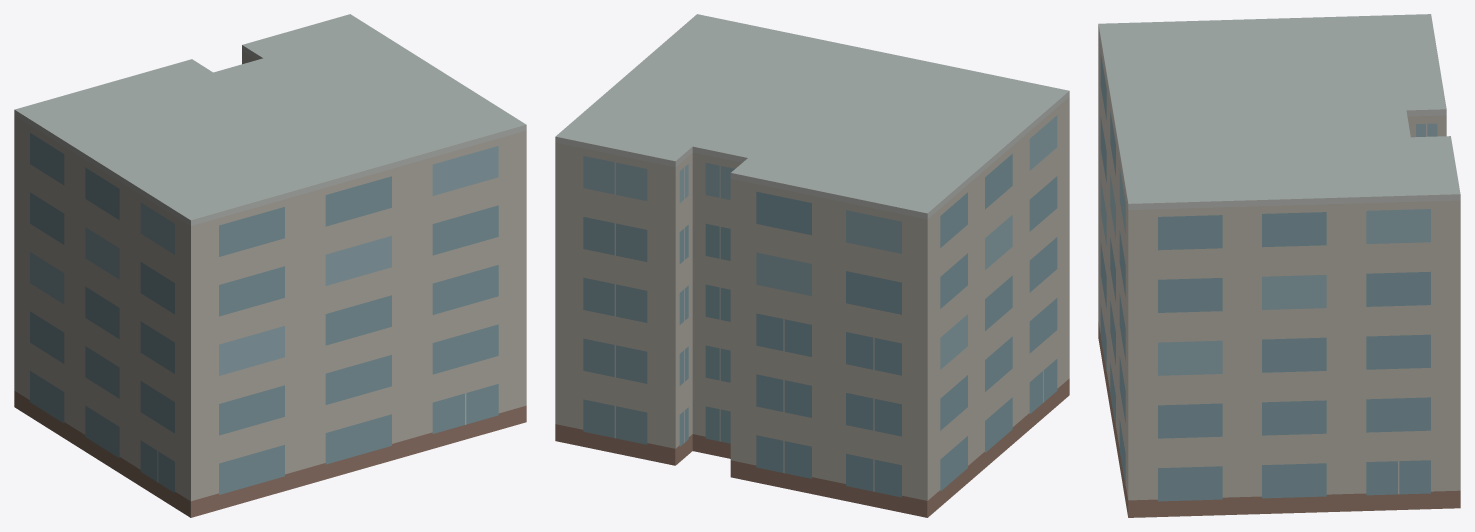
The model's file is survey-upis-32610579.glb.
3 renders of one model, left to right at view 1: azimuth 30°, elevation 25°; view 2: azimuth 150°, elevation 25°; view 3: azimuth 270°, elevation 25°, orthographic. The views are drawn at different scales.
Parts seen in each view (by area): view 1: survey-upis-32610579.tmp; view 2: survey-upis-32610579.tmp; view 3: survey-upis-32610579.tmp.
Part boxes in pixels (box(x1,y1,x2,y2)): survey-upis-32610579.tmp: box(14, 14, 526, 517); survey-upis-32610579.tmp: box(555, 14, 1069, 517); survey-upis-32610579.tmp: box(1098, 14, 1460, 517).
Bounding box in the file's own units: 16.28 × 12.55 × 13.13.
